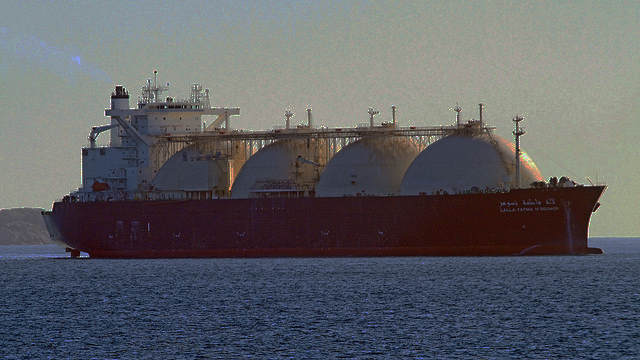LNG_ship: (42, 74, 615, 255)
